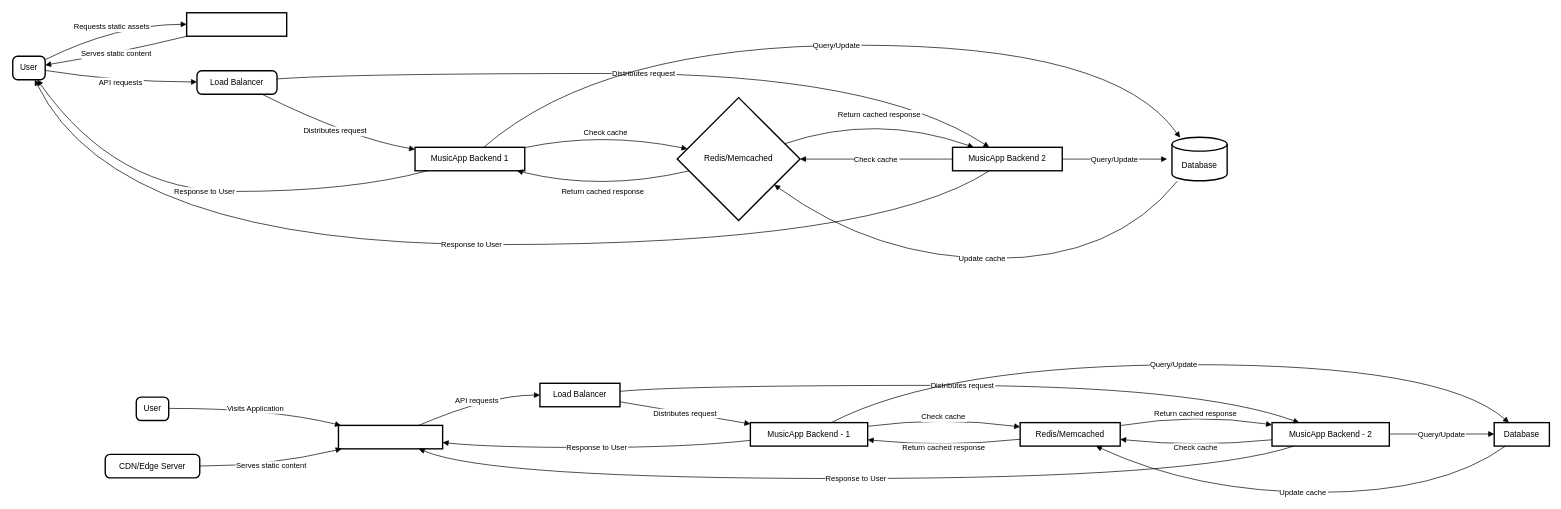
Some shapes in this 1561 by 509 pixel diagram are drawn without their labels. Each missing label, with the centre of its shape:
"CDN - Edge Server" belongs at pixel 236 24.
"MusicApp Frontend" belongs at pixel 390 436.
